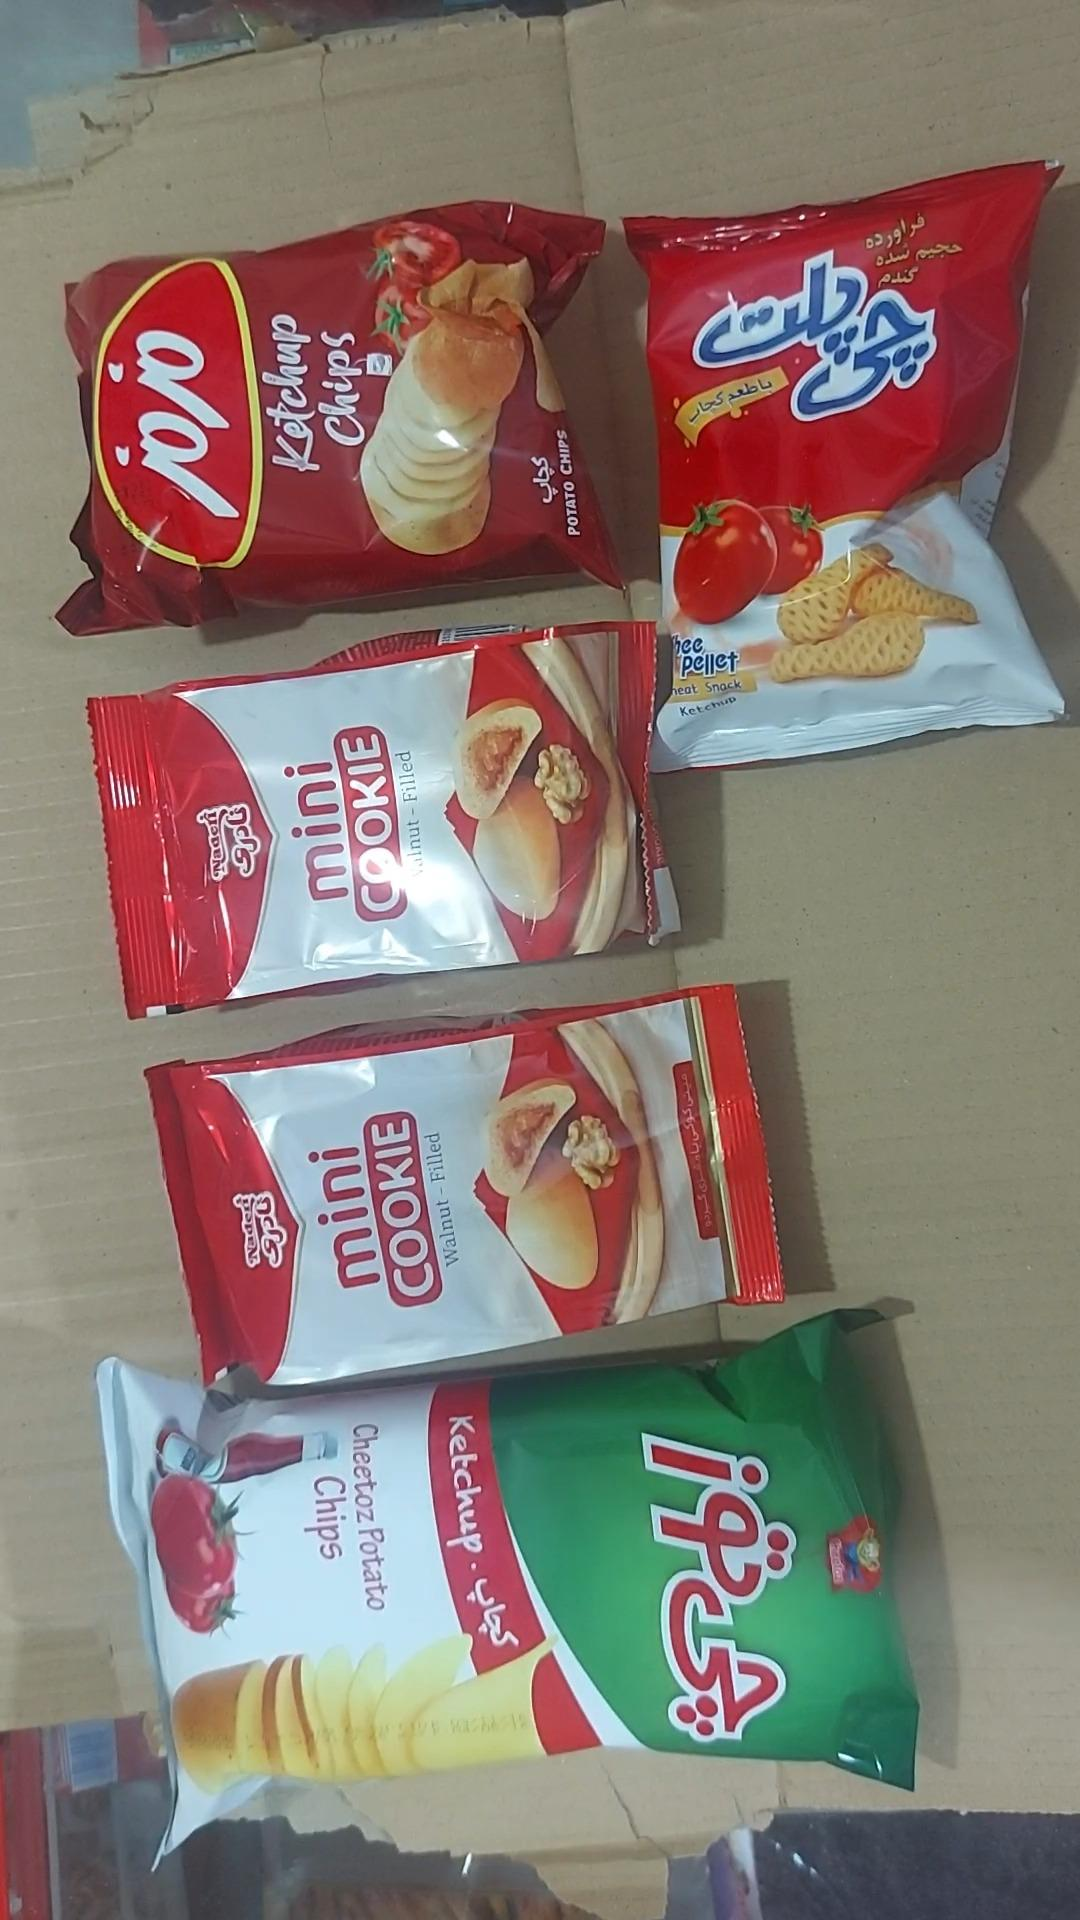Chee pellet ketchup: (622, 160, 1067, 773)
Cheetoz ketchup chips: (96, 1309, 920, 1876)
Maz Maz ketchup chips: (53, 200, 622, 640)
Naderi mini cookie: (142, 986, 786, 1387), (83, 621, 680, 1022)
